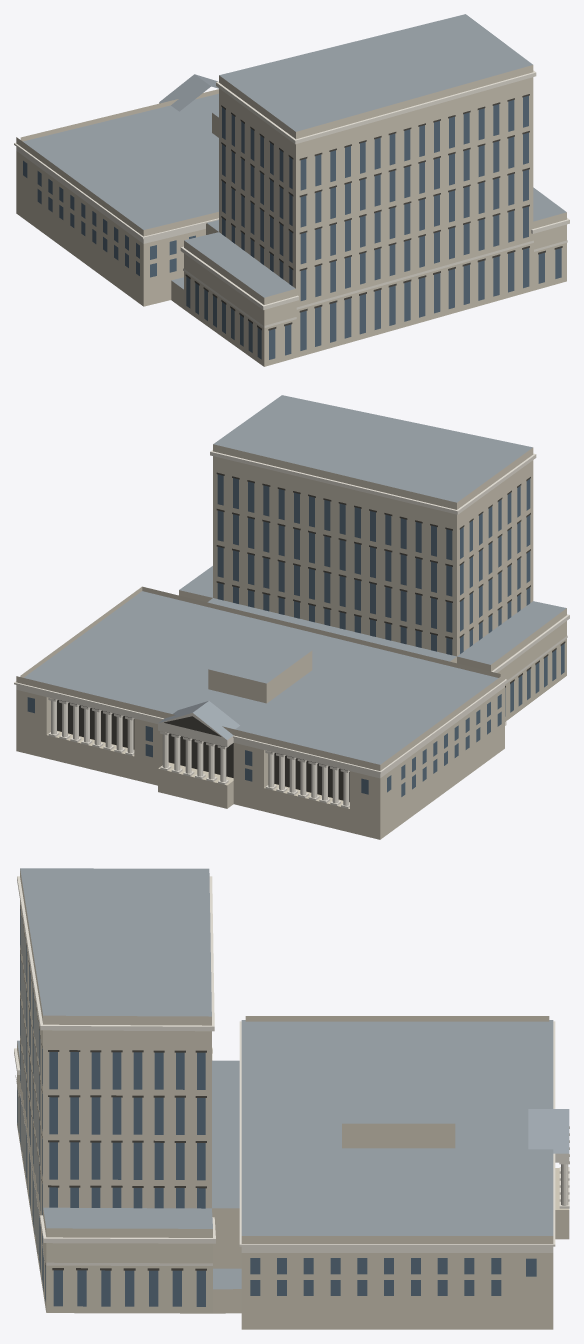
Rendered from clt-jonas-building.glb.
3 renders of one model, top to bottom at view 1: azimuth 30°, elevation 25°; view 2: azimuth 150°, elevation 25°; view 3: azimuth 270°, elevation 25°, orthographic. The views are drawn at different scales.
Parts seen in each view (by area): view 1: Charles R. Jonas Federal Building; view 2: Charles R. Jonas Federal Building; view 3: Charles R. Jonas Federal Building.
Part boxes in pixels (x1,y1,x2,y2): Charles R. Jonas Federal Building: (14, 14, 569, 366); Charles R. Jonas Federal Building: (14, 395, 569, 839); Charles R. Jonas Federal Building: (14, 868, 569, 1329).
Bounding box in the file's own units: 84.9 × 49 × 89.28.
